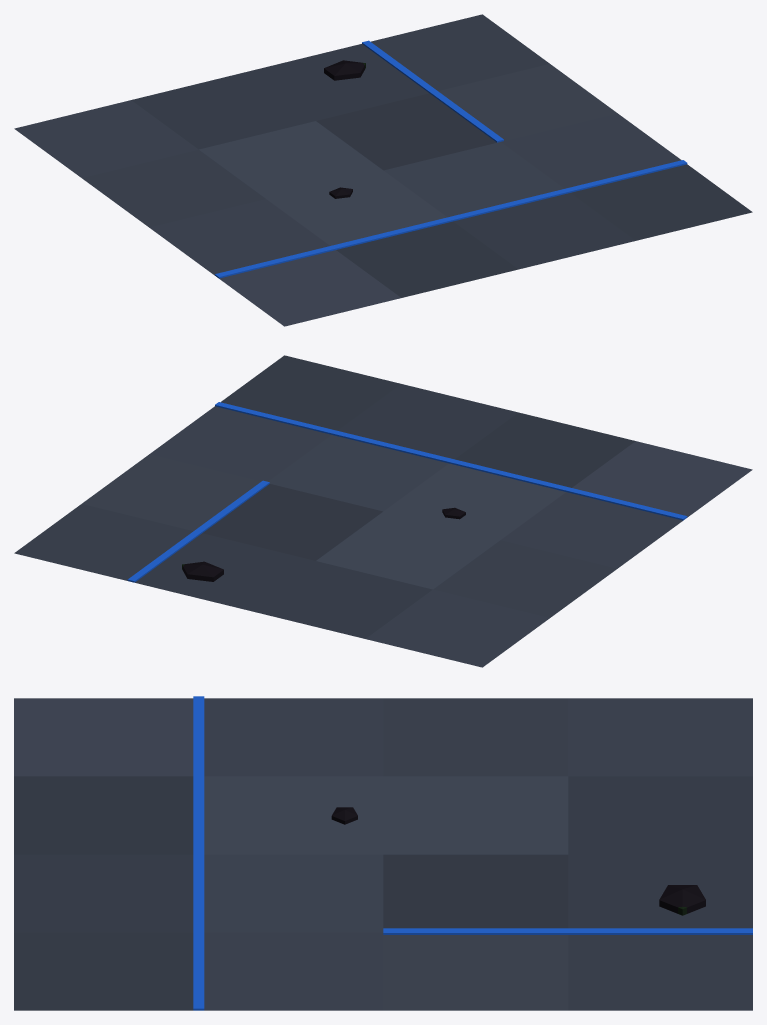
The model's file is barrow_floor.glb.
The picture shows the model from 3 angles, top to bottom: view 1: azimuth 30°, elevation 25°; view 2: azimuth 150°, elevation 25°; view 3: azimuth 270°, elevation 25°; orthographic projection. The views are drawn at different scales.
Parts seen in each view (by area): view 1: barrow_floor; view 2: barrow_floor; view 3: barrow_floor.
Part boxes in pixels (x1,y1,x2,y2): barrow_floor: [14, 14, 752, 326]; barrow_floor: [14, 355, 752, 667]; barrow_floor: [14, 696, 752, 1010].
Size of the model in its own units: 2 by 0.0771 by 2.
3 materials, 1 textured.
